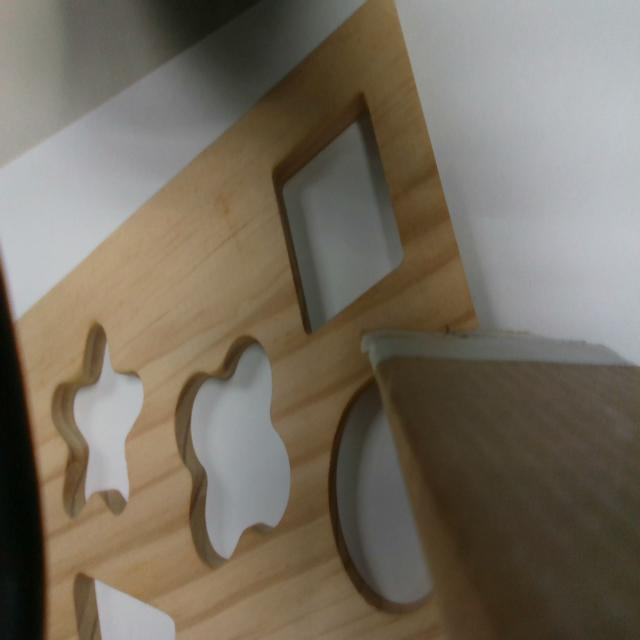circle: (330, 371, 437, 607)
flower: (174, 335, 288, 571)
square: (272, 86, 406, 335)
star: (52, 326, 145, 519)
triangle: (70, 566, 176, 637)
